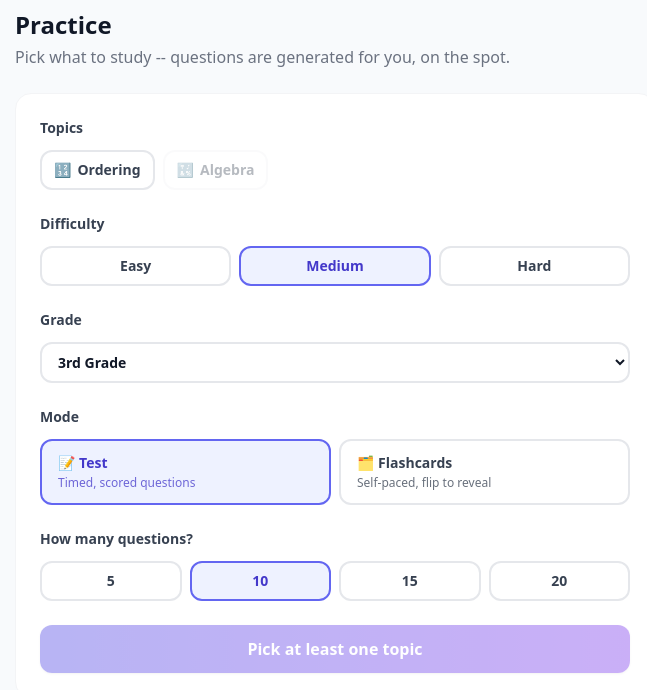
Test: re-checks which topics are allowed when the grade changes, dropping a now-disallowed selection
The image size is (647, 690).
Expected: the button "🔣 algebra" is shown, [162,150,268,190]
Select "8th Grade" in the dropdown labelled "Grade" at (335, 362), box [40,342,630,383]
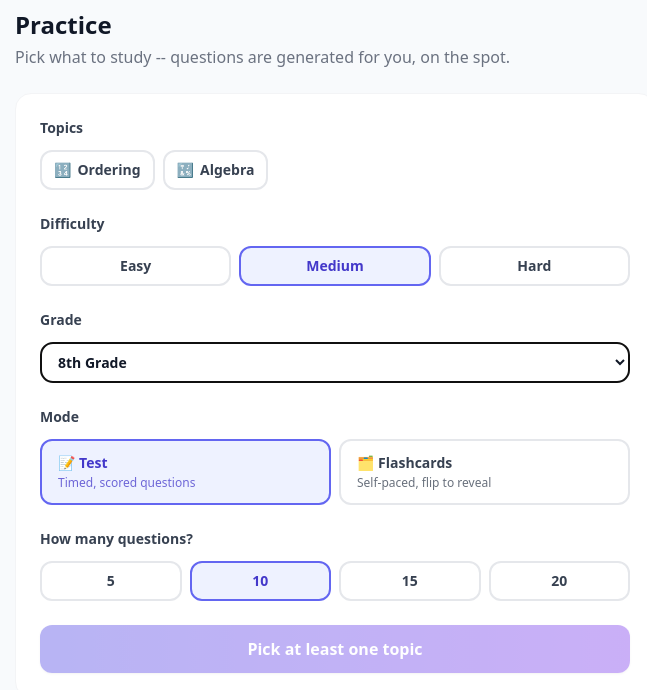
Now the button "🔣 algebra" is enabled, box [162,150,268,190]
